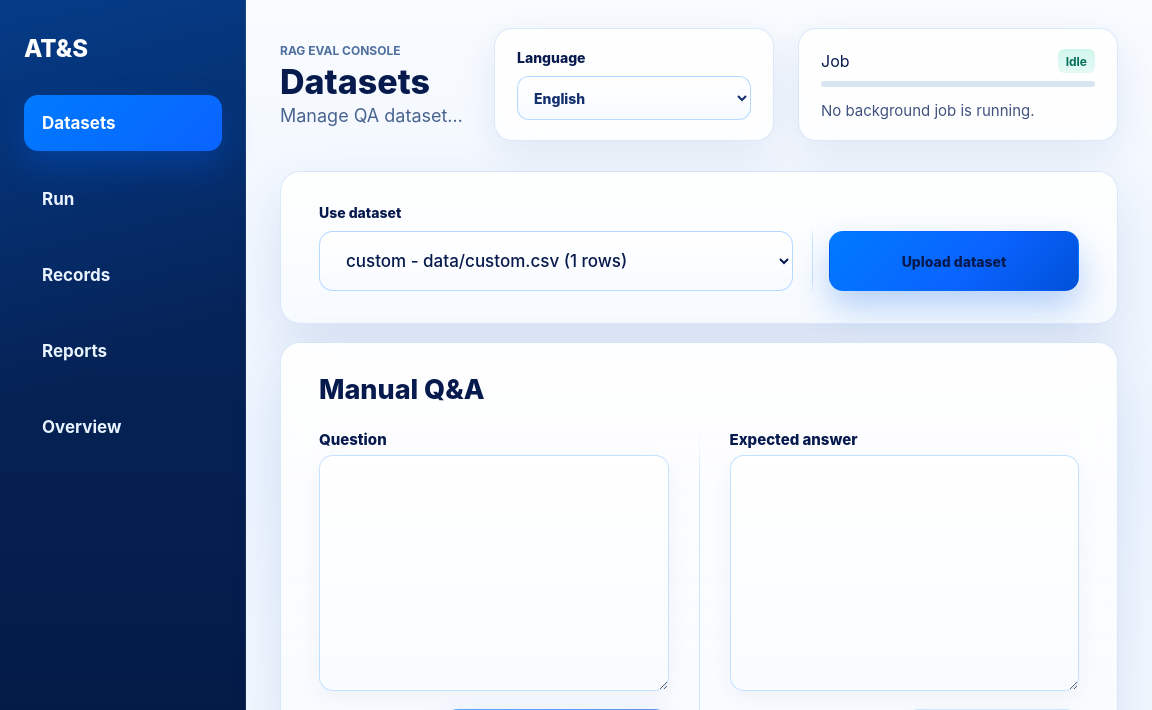
Test: App › loads evaluation runs when switching to Records
Click the button "Records".
click(123, 275)  # box left=24, top=247, right=222, bottom=303
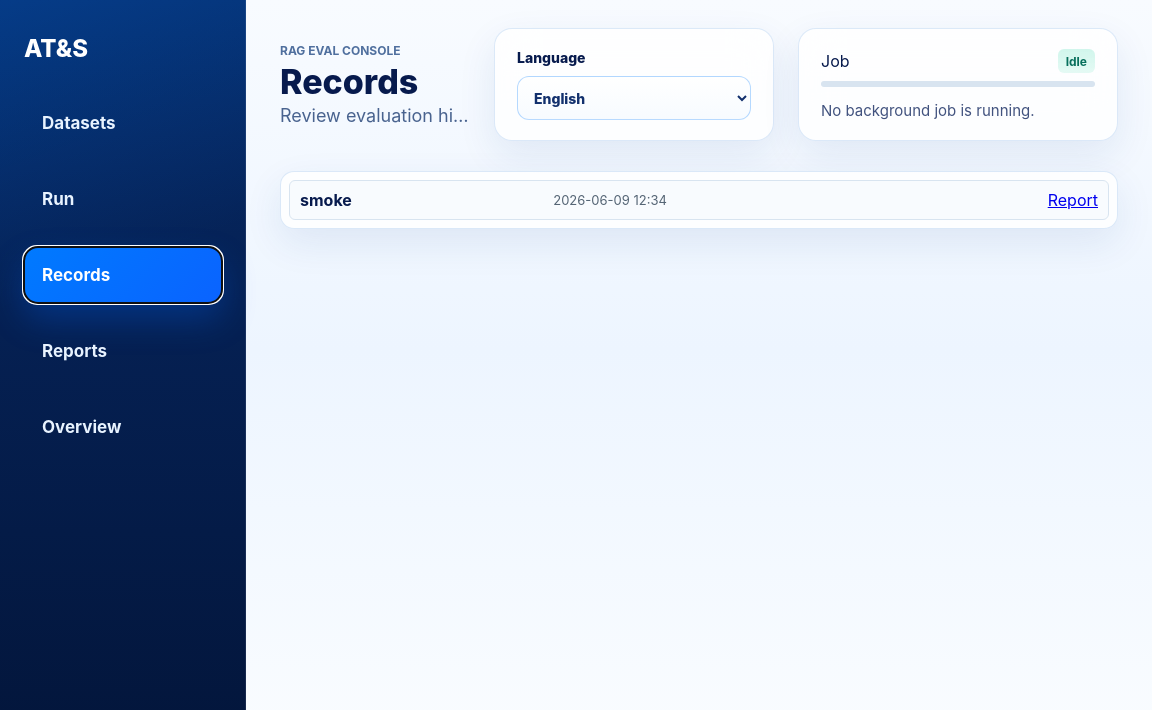
Expected: the text "smoke" is shown, left=300, top=190, right=352, bottom=210
Expected: the text "2026-06-09 12:34" is shown, left=553, top=192, right=667, bottom=208
